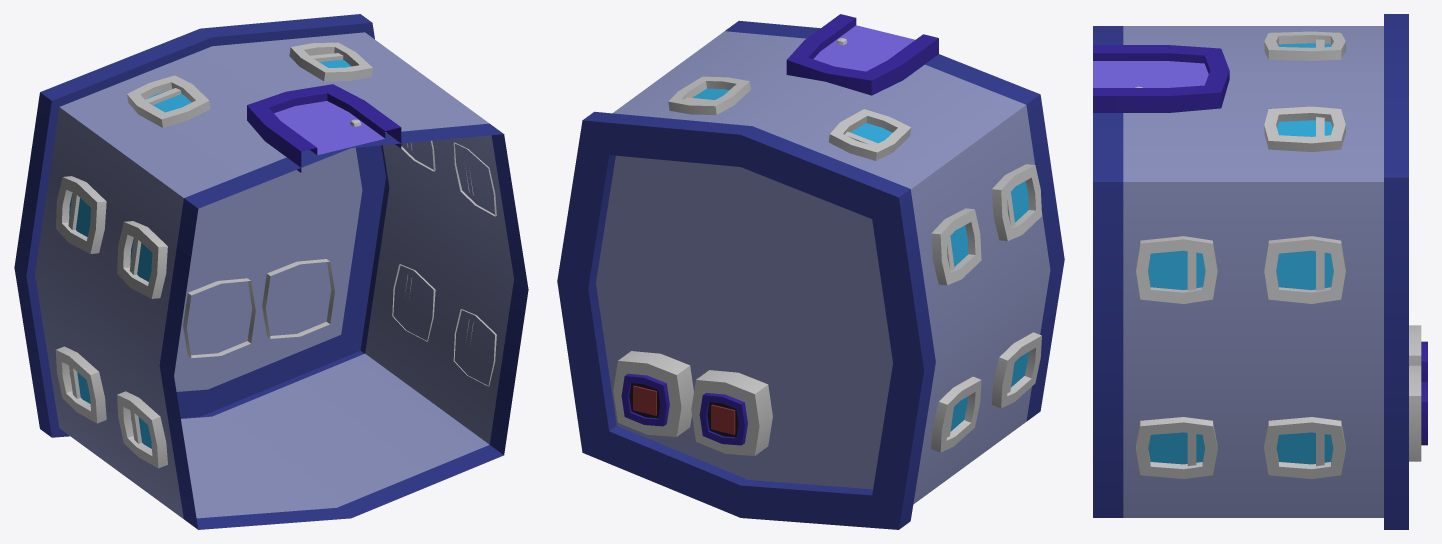
Rendered from Building 01.FBX.
3 renders of one model, left to right at view 1: azimuth 30°, elevation 25°; view 2: azimuth 150°, elevation 25°; view 3: azimuth 270°, elevation 25°, orthographic. The views are drawn at different scales.
Parts seen in each view (by area): view 1: Building 01; view 2: Building 01; view 3: Building 01.
Boxes of the visible parts, x1,y1,x2,y2 form: Building 01: (14, 14, 528, 529); Building 01: (557, 14, 1064, 529); Building 01: (1093, 14, 1427, 529).
Size of the model in its own units: 964 by 962 by 719.
